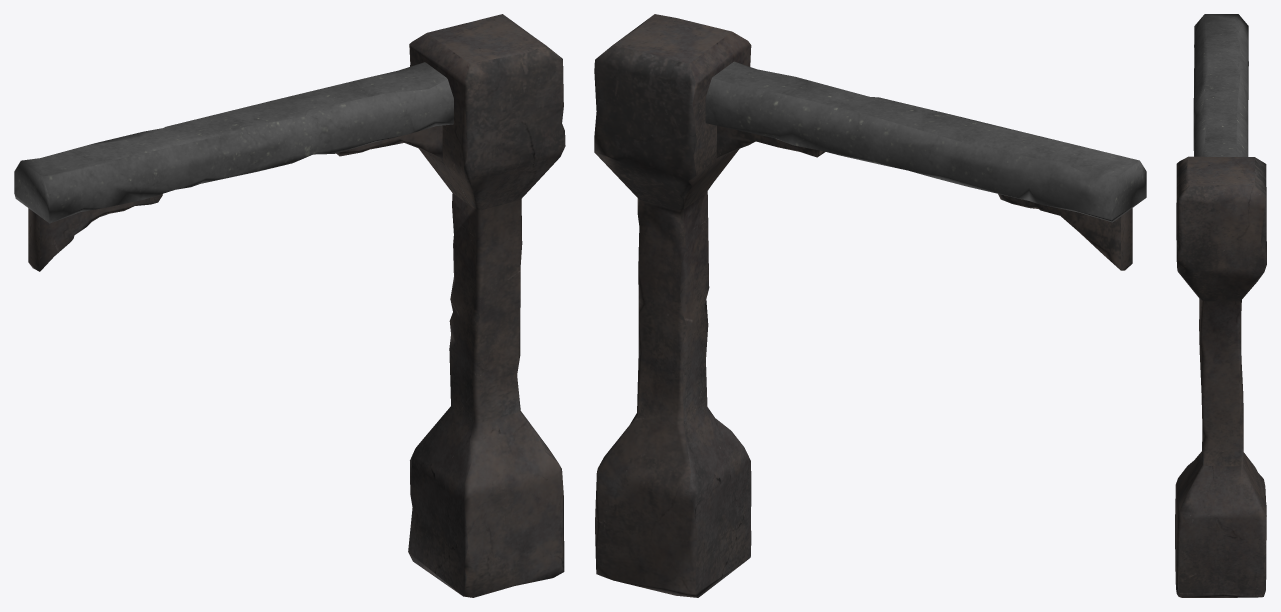
The model's file is SM_Railing.fbx.
3 views of the same model, side by side, from view 1: azimuth 30°, elevation 25°; view 2: azimuth 150°, elevation 25°; view 3: azimuth 270°, elevation 25° (orthographic). The views are drawn at different scales.
Parts seen in each view (by area): view 1: SM_Railing_LOD0; view 2: SM_Railing_LOD0; view 3: SM_Railing_LOD0.
Boxes of the visible parts, box(x1,y1,x2,y2) form: SM_Railing_LOD0: box(14, 14, 565, 597); SM_Railing_LOD0: box(594, 14, 1146, 597); SM_Railing_LOD0: box(1175, 14, 1266, 597).
Bounding box in the file's own units: 100 × 20.37 × 100.
Materials: 2 (2 with a texture image).
